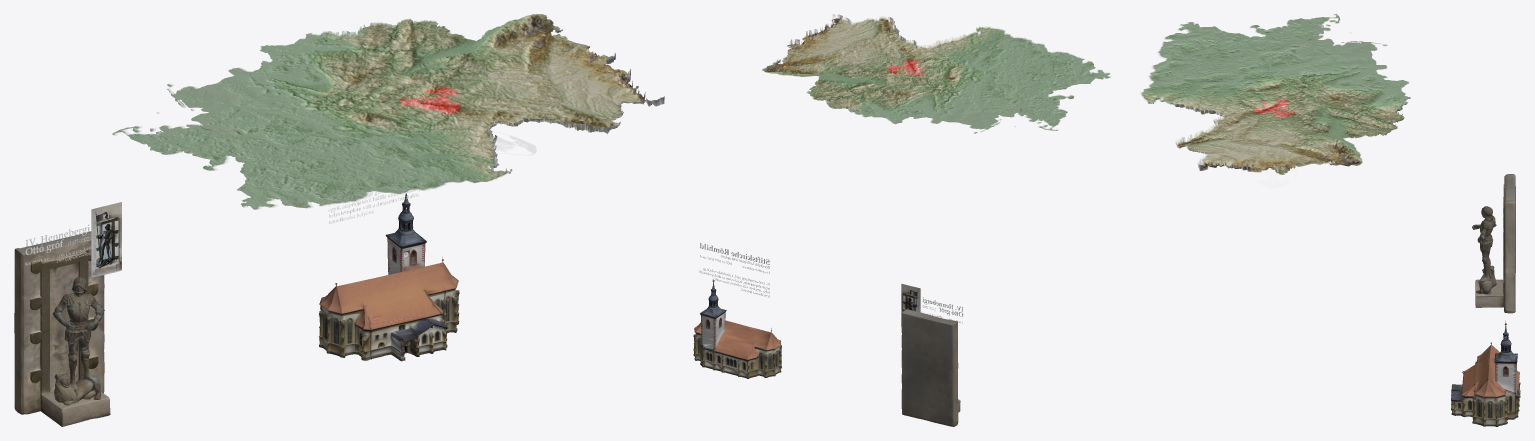
The model's file is project5.glb.
3 renders of one model, left to right at view 1: azimuth 30°, elevation 25°; view 2: azimuth 150°, elevation 25°; view 3: azimuth 270°, elevation 25°, orthographic. The views are drawn at different scales.
Parts seen in each view (by area): view 1: 05 Putovits Zsolti/Fejes Alex; view 2: 05 Putovits Zsolti/Fejes Alex; view 3: 05 Putovits Zsolti/Fejes Alex.
Boxes of the visible parts, x1=… form: 05 Putovits Zsolti/Fejes Alex: x1=14, y1=14, x2=664, y2=426; 05 Putovits Zsolti/Fejes Alex: x1=693, y1=14, x2=1111, y2=426; 05 Putovits Zsolti/Fejes Alex: x1=1140, y1=14, x2=1520, y2=426.
Size of the model in its own units: 5.46 by 4.29 by 5.65.
5 materials, 5 textured.
